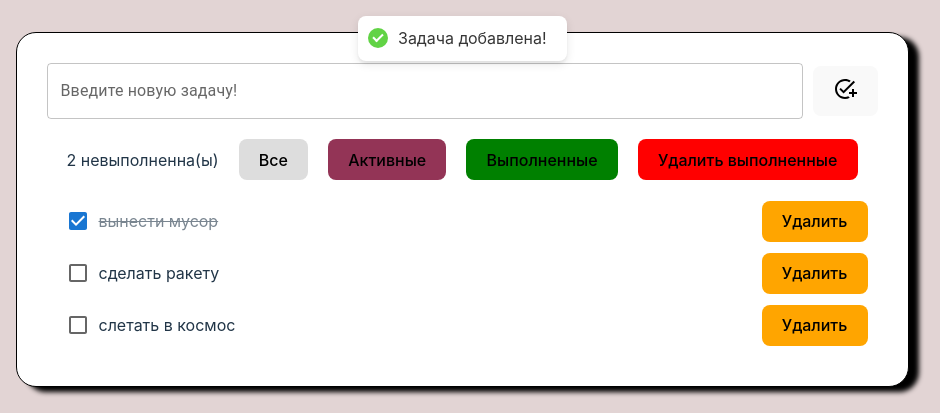
Test case: Todos Component › filters tasks
What coordinates should you click on to do the following:
click the button "Активные"
I would click on:
 (387, 160)
Its box is [328,139,446,180].
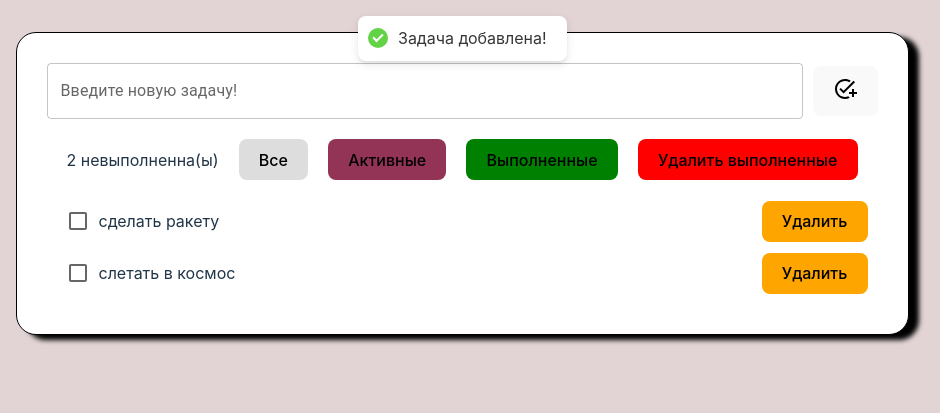
Expected: the text "сделать ракету" is shown, [98,209,219,233]
Now the text "вынести мусор" is gone
What coordinates should you click on to do the following:
click the button "Выполненные"
I would click on:
 (542, 160)
Its box is [466,139,618,180].
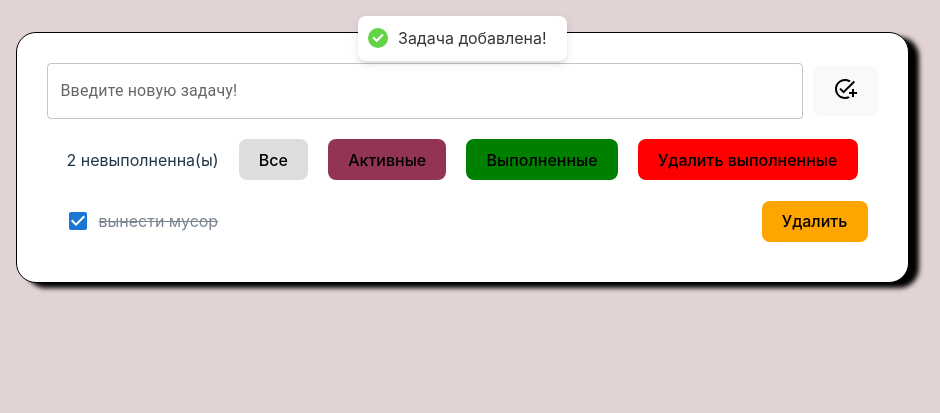
Now the text "вынести мусор" is shown, box [98,209,218,233]
Now the text "сделать ракету" is gone
Now the text "слетать в космос" is gone
What coordinates should you click on to do the following:
click the button "Все"
I would click on:
 (273, 160)
Its box is [238,139,308,180].
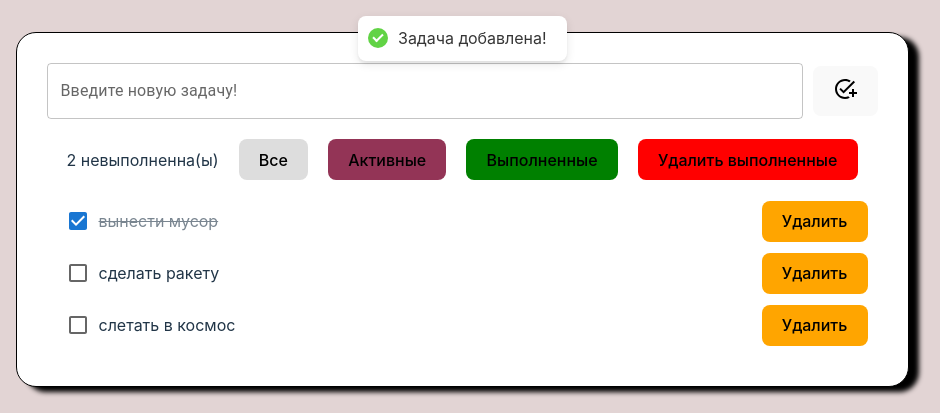
Now the text "вынести мусор" is shown, box [98,209,218,233]
Now the text "сделать ракету" is shown, box [98,261,219,285]
Now the text "слетать в космос" is shown, box [98,313,235,337]
